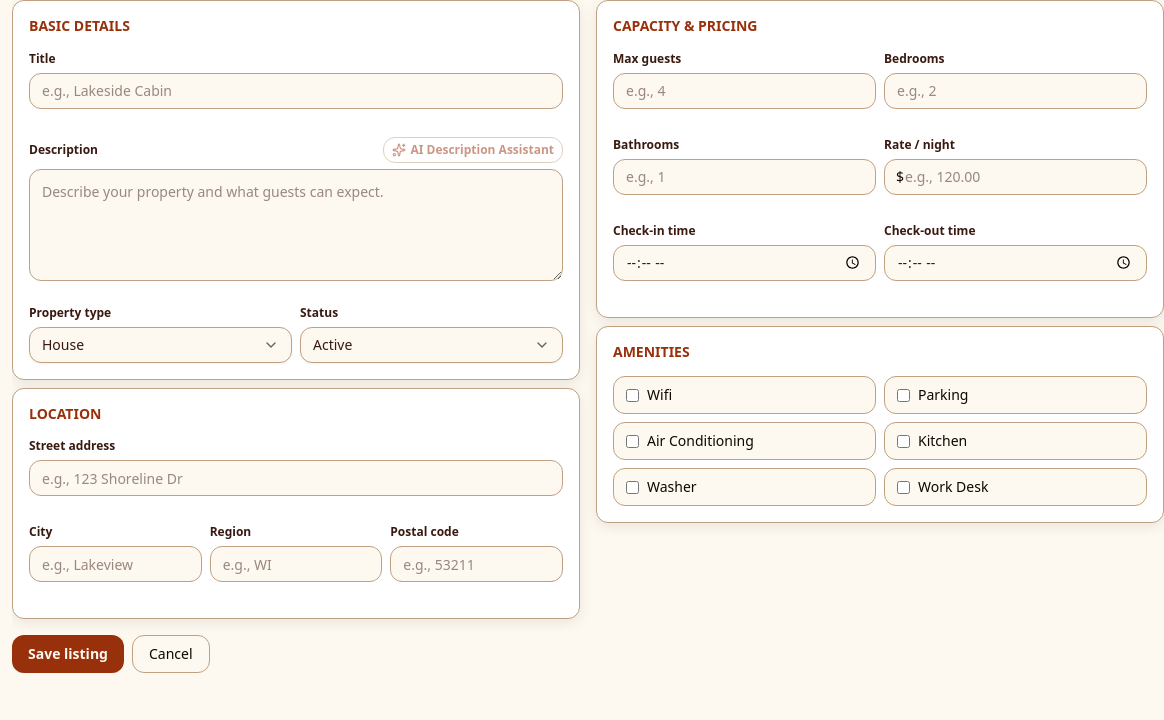
Scenario: HostListingForm with the API provider › keeps AI unavailable until every minimum listing detail is present
This screenshot has width=1164, height=720.
Expected: the button with aria-label "Open AI assistant" is disabled, x1=383 y1=136 x2=563 y2=162
Type "New Cabin" into the field labelled "Title".
click(296, 90); type("New Cabin")  # box x1=29 y1=72 x2=563 y2=108
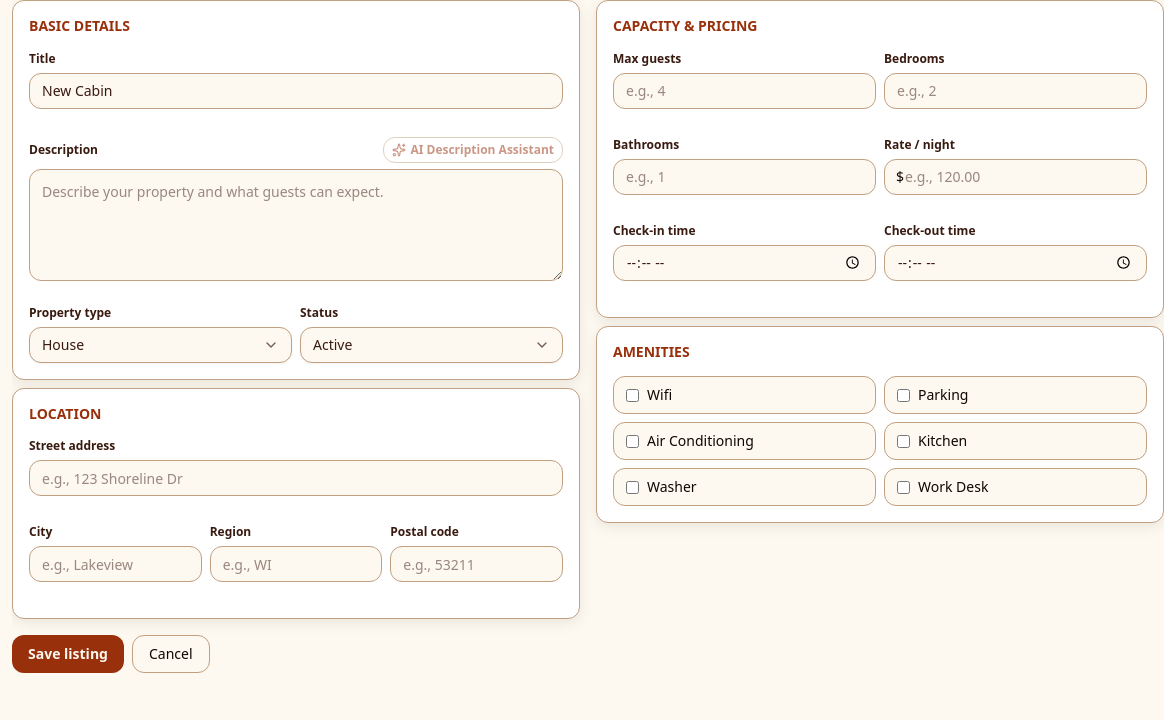
Type "2" into the number field labelled "Max guests".
click(744, 90); type("2")  # box x1=613 y1=72 x2=876 y2=108
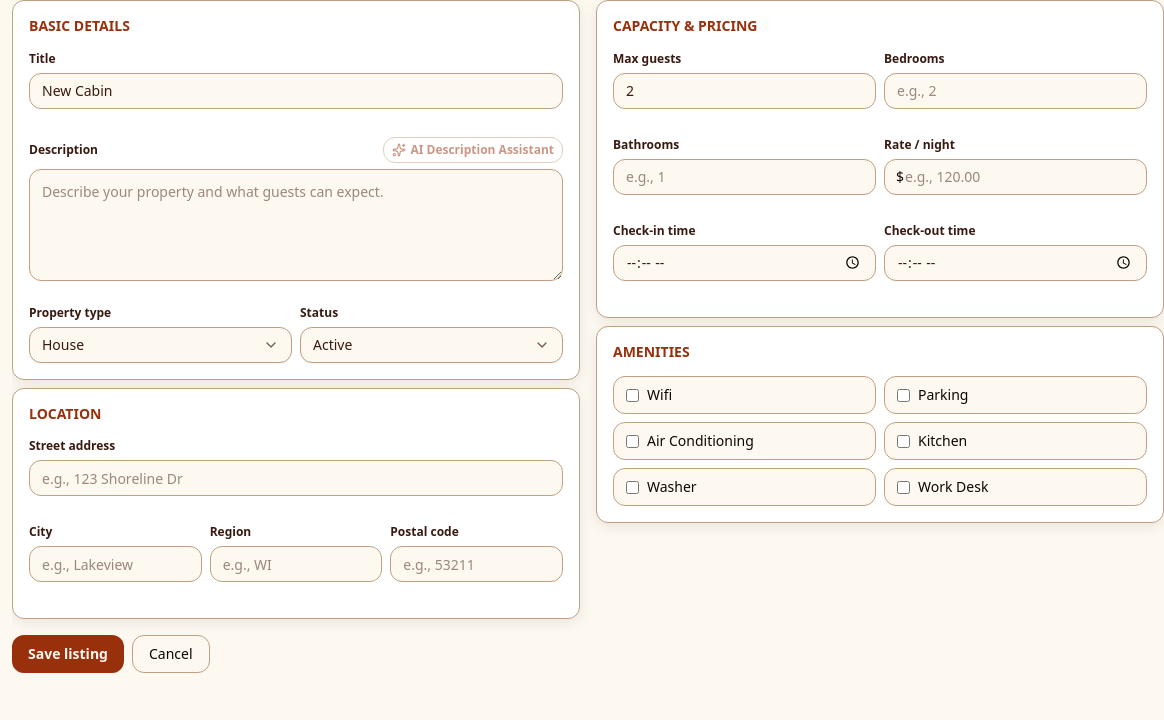
Type "1" into the number field labelled "Bedrooms".
click(1016, 90); type("1")  # box x1=884 y1=72 x2=1147 y2=108
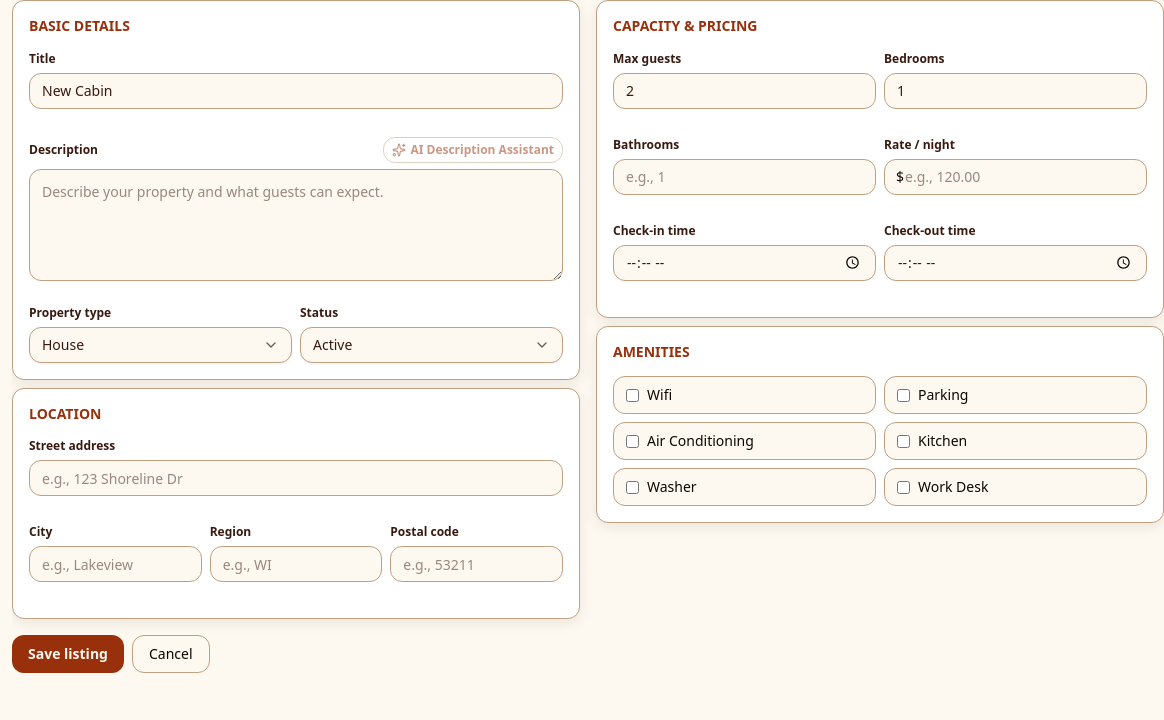
Type "1" into the number field labelled "Bathrooms".
click(744, 176); type("1")  # box x1=613 y1=158 x2=876 y2=194
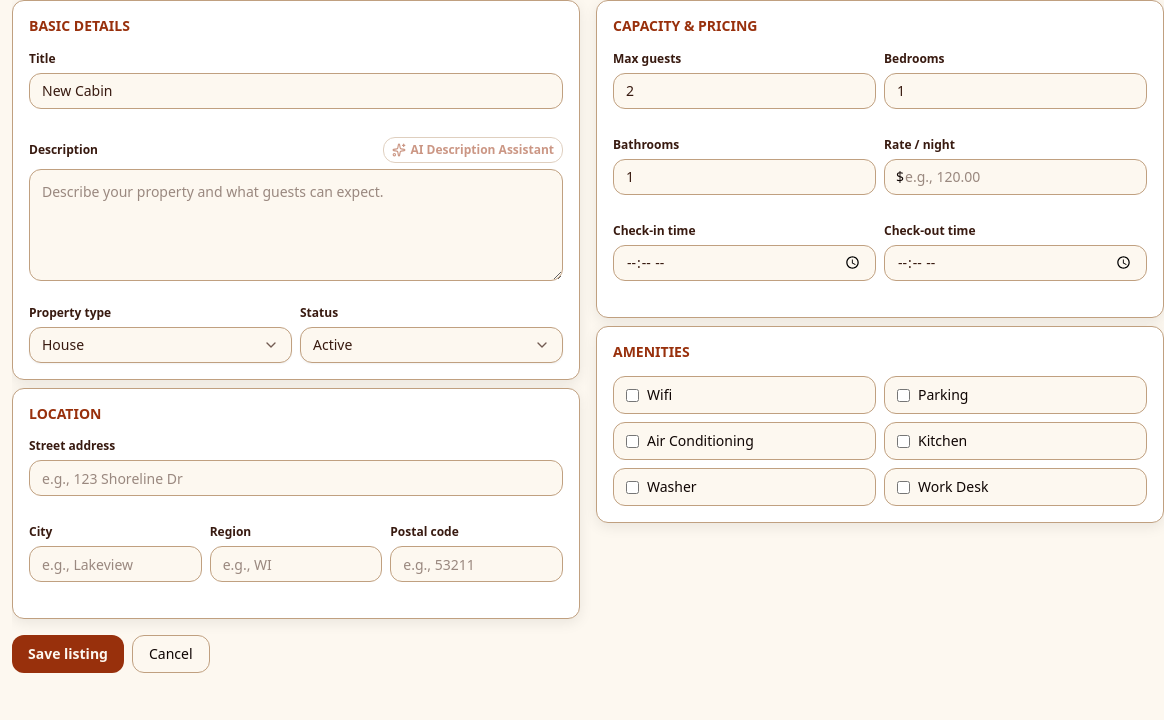
Type "15:00" into the time field labelled "Check-in time".
click(744, 262); type("15:00")  # box x1=613 y1=244 x2=876 y2=280
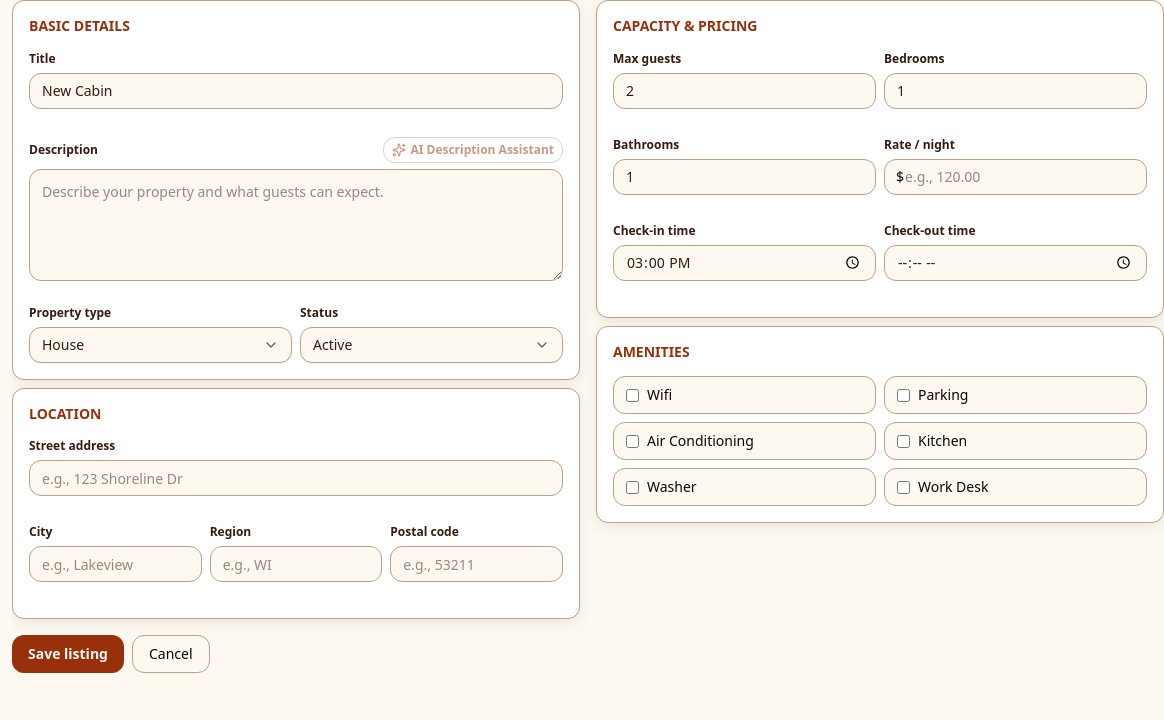
Type "11:00" into the time field labelled "Check-out time".
click(1016, 262); type("11:00")  # box x1=884 y1=244 x2=1147 y2=280
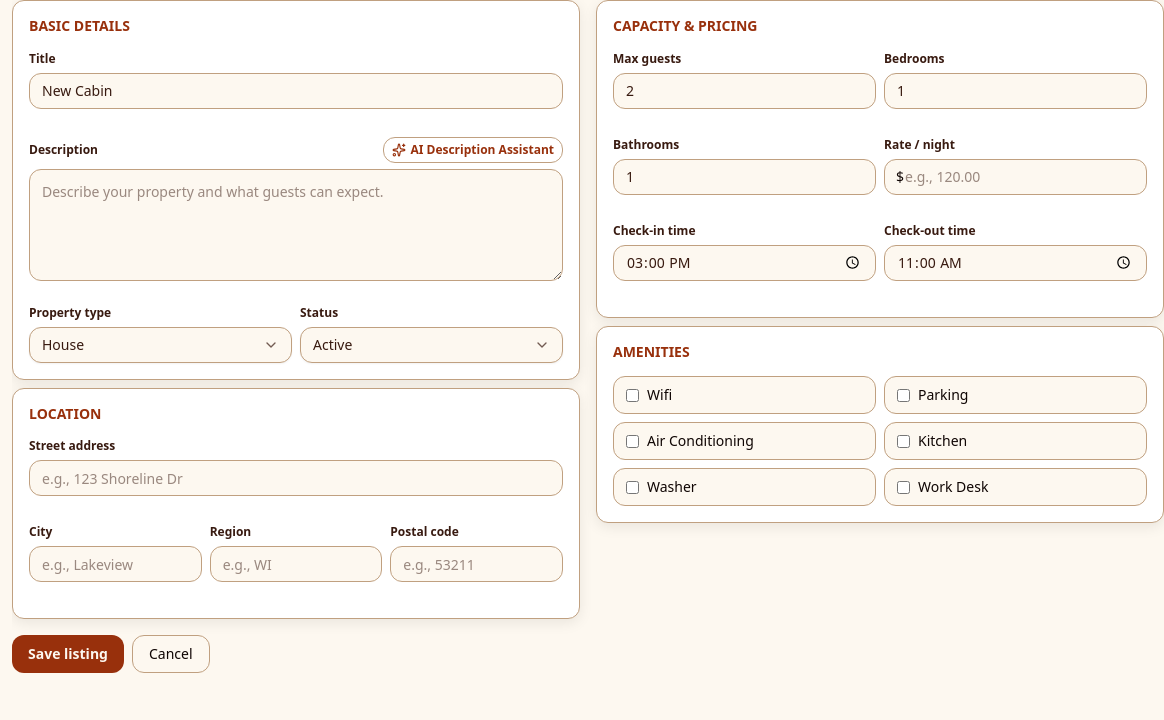
Now the button with aria-label "Open AI assistant" is enabled, box x1=383 y1=136 x2=563 y2=162
